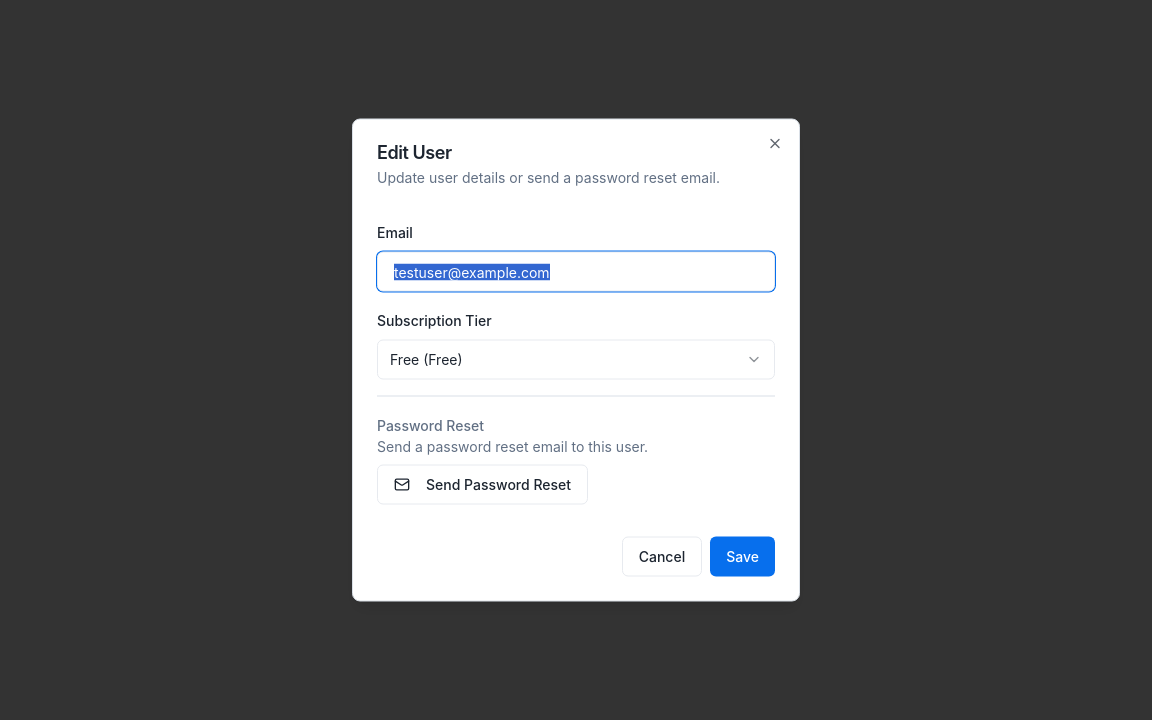
Users Management Tests (Task Group 3) › UserEditDialog › validates email format before saving
The width and height of the screenshot is (1152, 720).
Note: Change to invalid email
Replace the text in the field labelled "Email" with "invalid-email" at coordinates (576, 272), box [377,252,775,292]
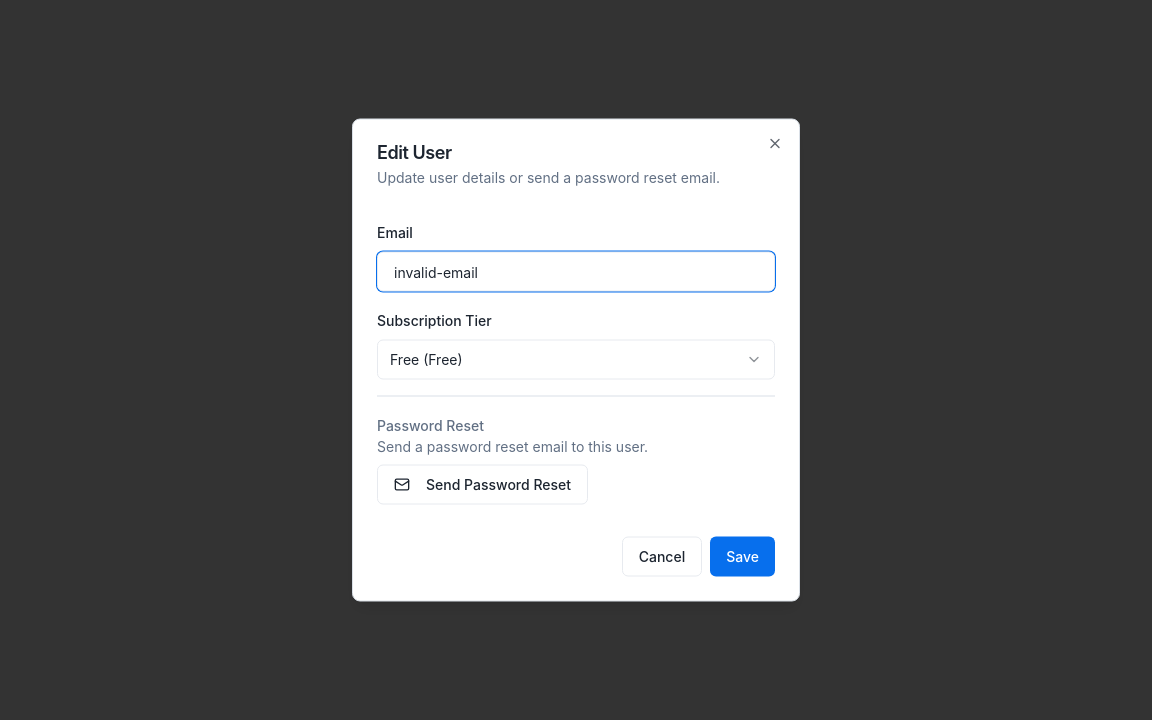
Note: Try to save
Click the button "Save" at coordinates (743, 556), box [710,536,775,576]
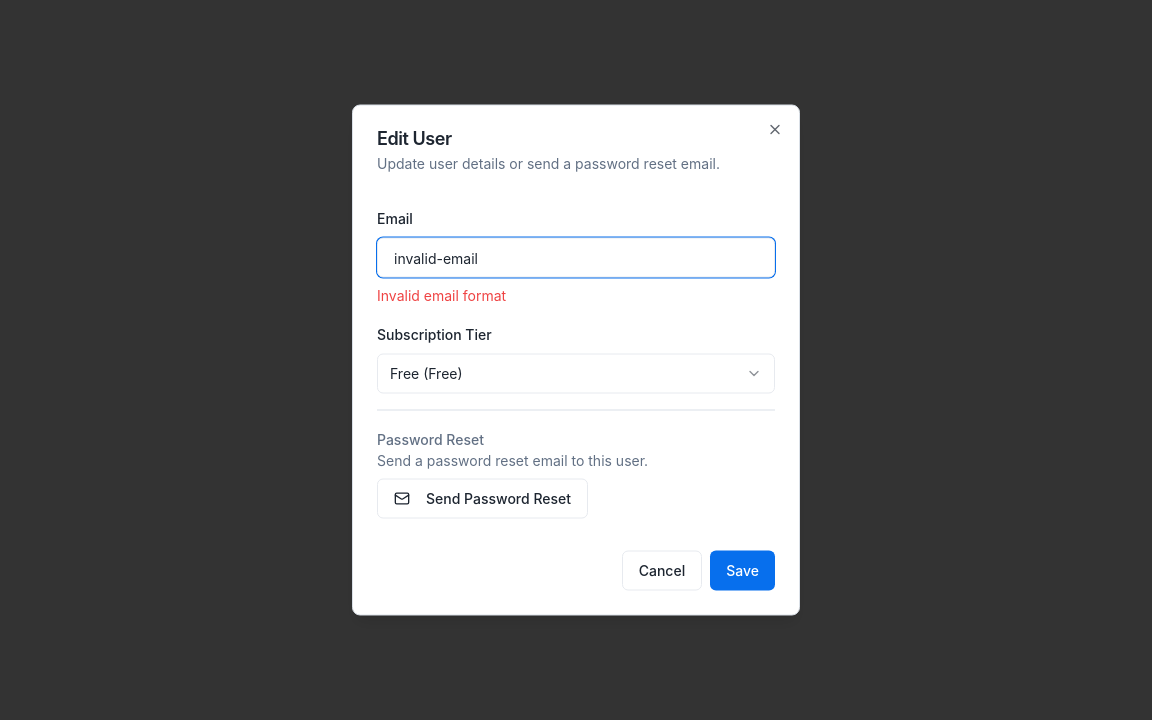
Result: the text "Invalid email format" is shown at [377,286,506,304]
